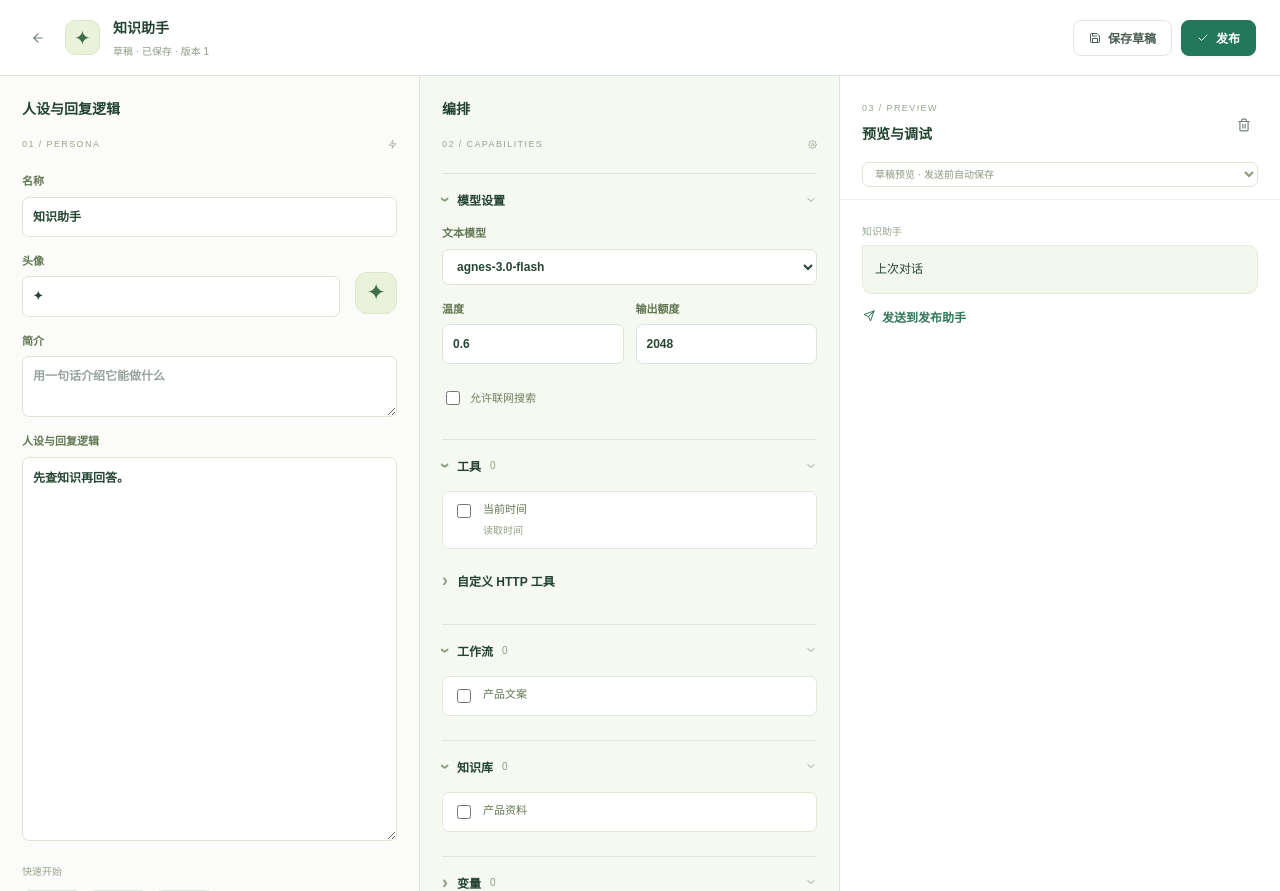
Test case: 恢复服务端会话，清空对话后新轮不携带旧会话
Expected: the text "上次对话" is shown, [862, 245, 1258, 294]
Click the button named "清空调试对话" at (1244, 125), box [1230, 111, 1258, 139]
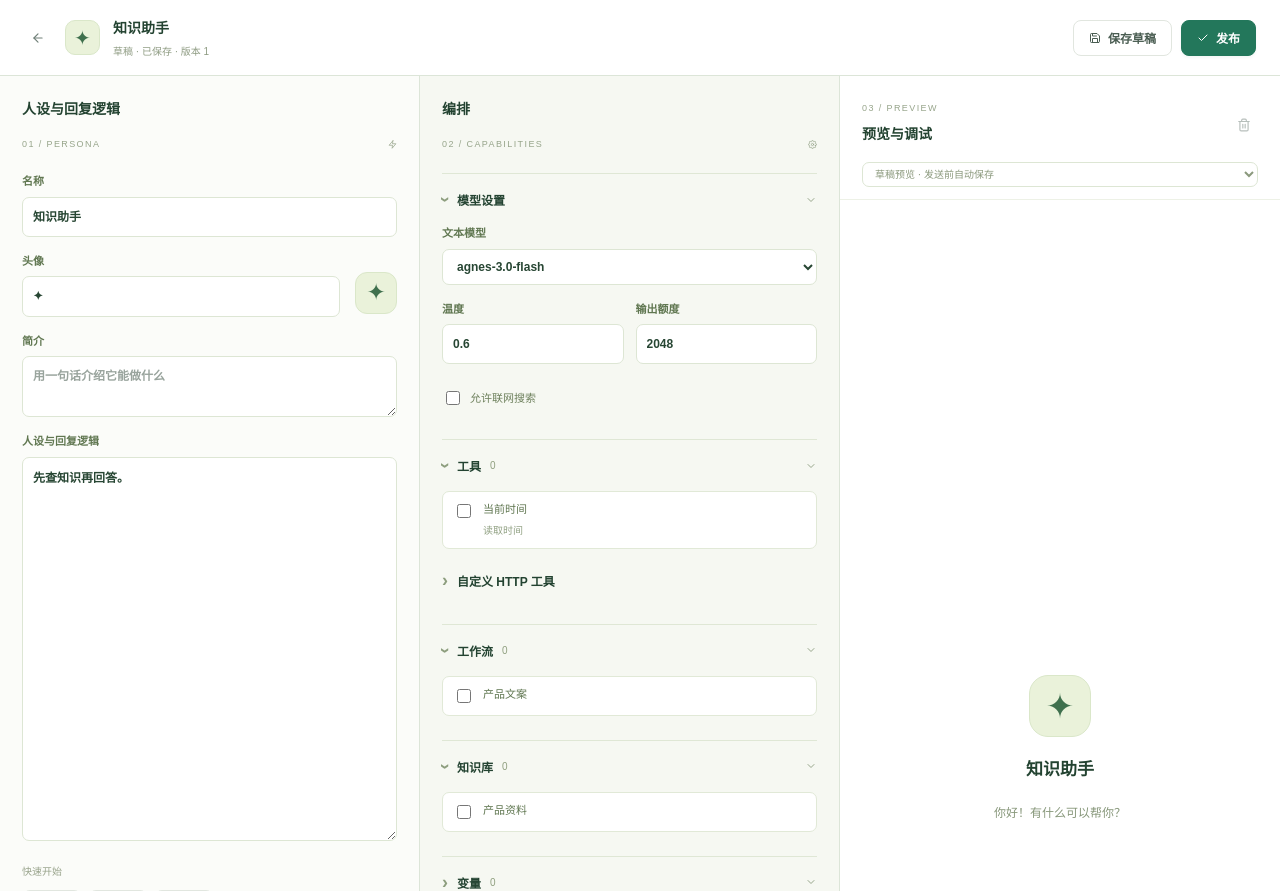
Result: the text "上次对话" is gone
